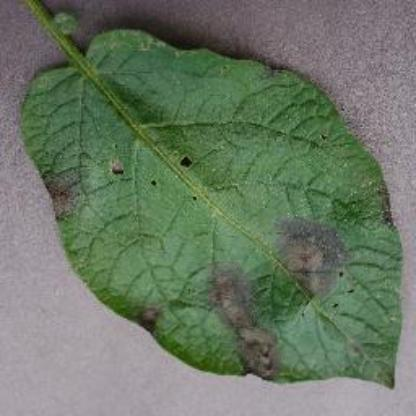Late-Blight: (16, 3, 408, 395)
